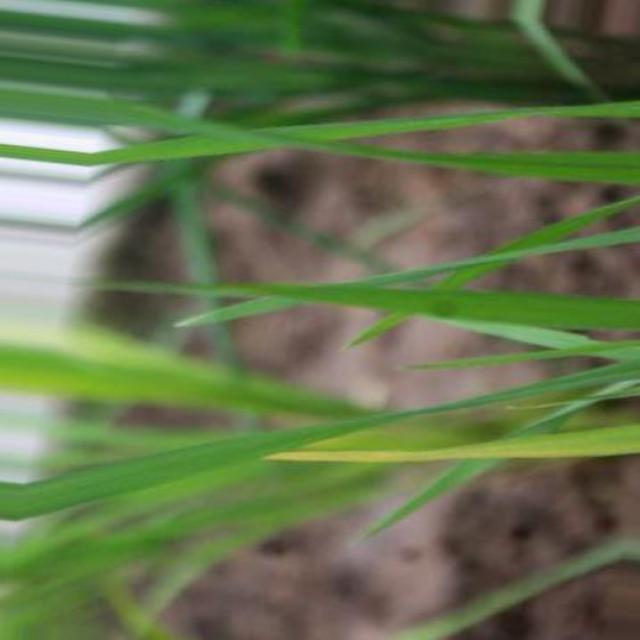Rice Tungro: (268, 426, 639, 462)
